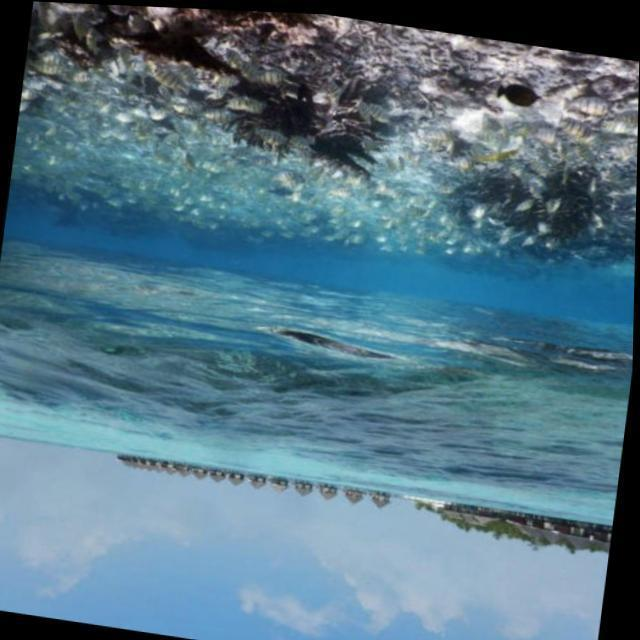Dead Coral: (283, 10, 505, 132)
